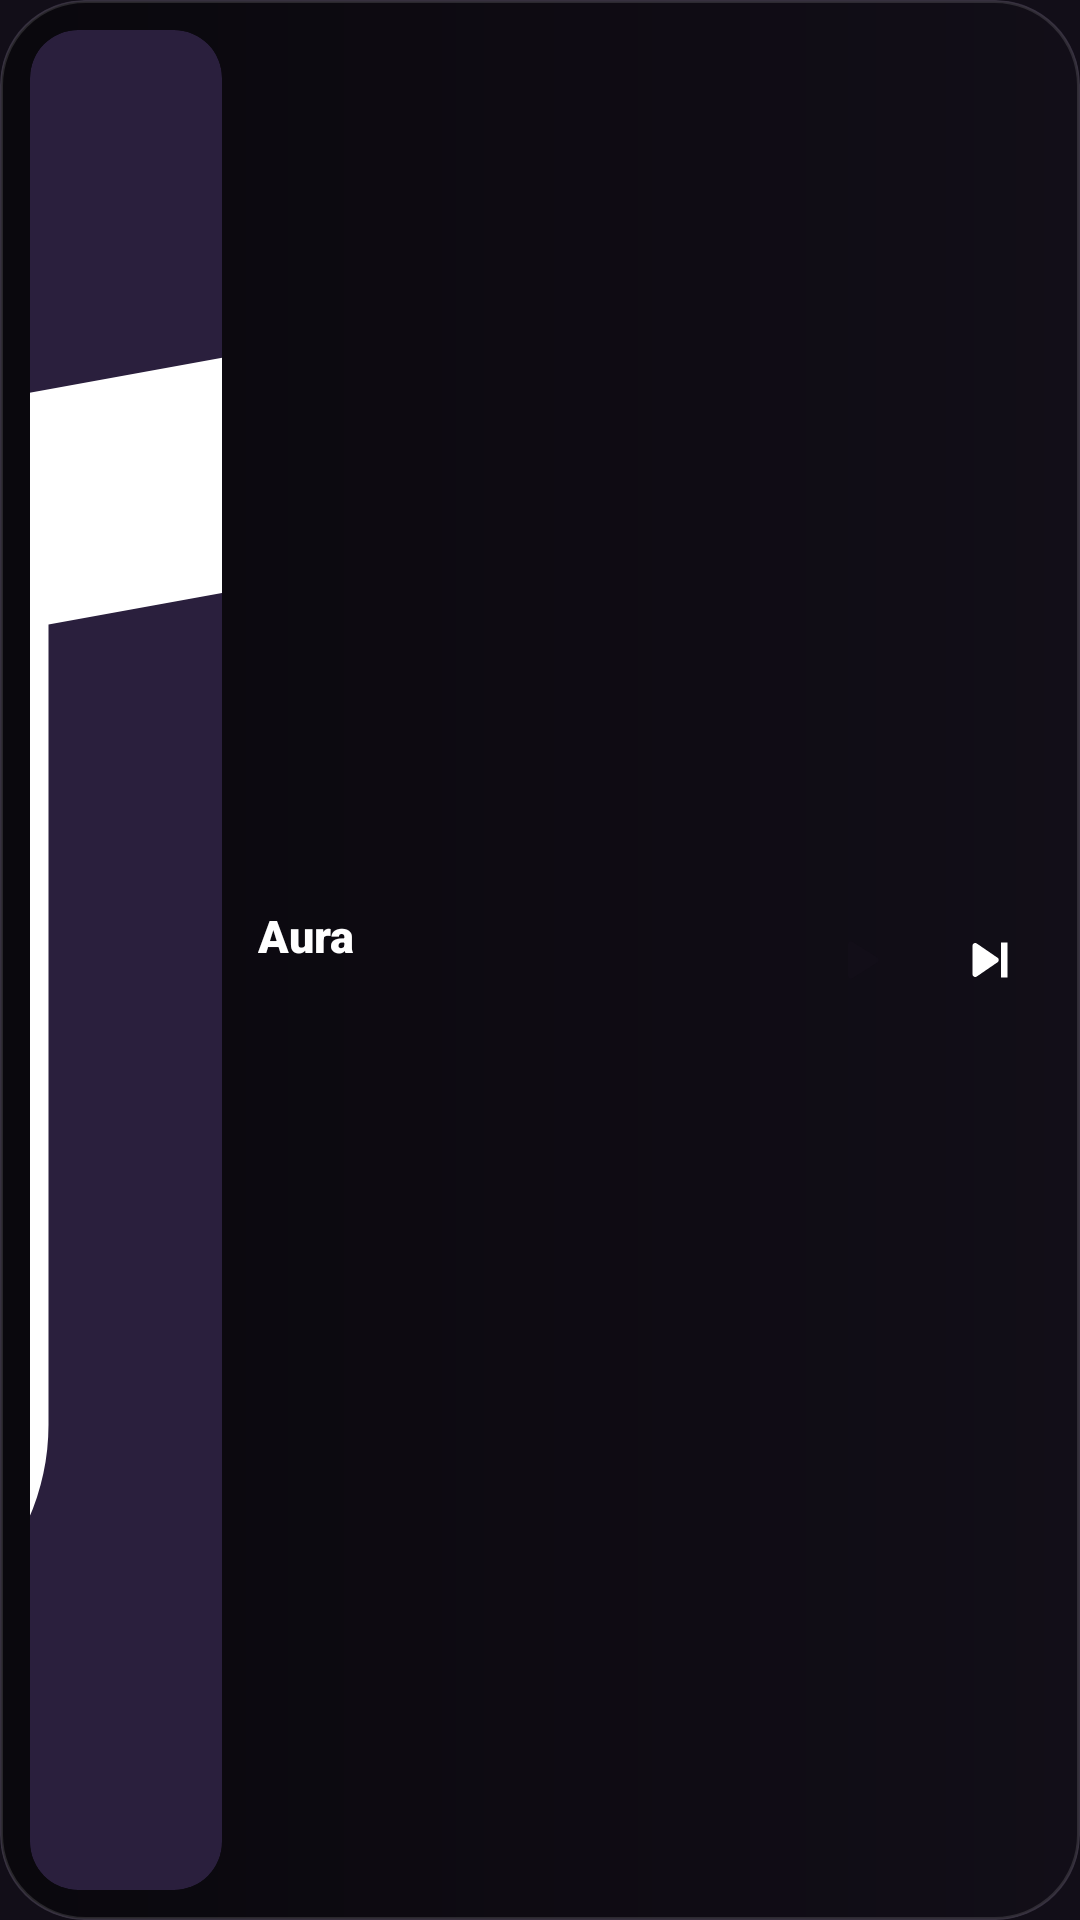

Where icons sit on this 1080px x 1920px app screen, as box=[x1, y1, x2, y2]:
Вперёд: box=[972, 942, 1008, 978]
